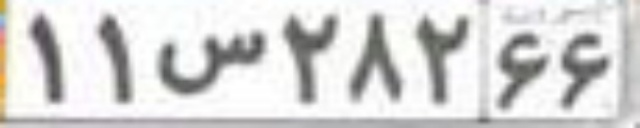1: (23, 12, 73, 103), (93, 14, 137, 104)
2: (410, 14, 470, 104), (280, 14, 335, 104)
6: (491, 32, 550, 108), (559, 33, 608, 106)
8: (341, 13, 406, 102)
sin: (155, 29, 262, 95)
